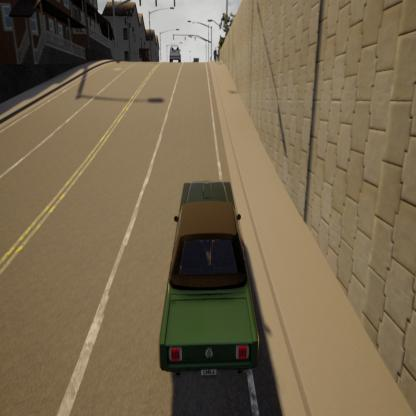Cars: (157, 169, 268, 388), (167, 42, 182, 64)
